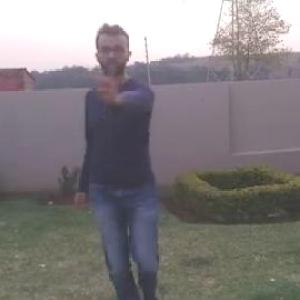takeoff-hand: (86, 62, 126, 99)
